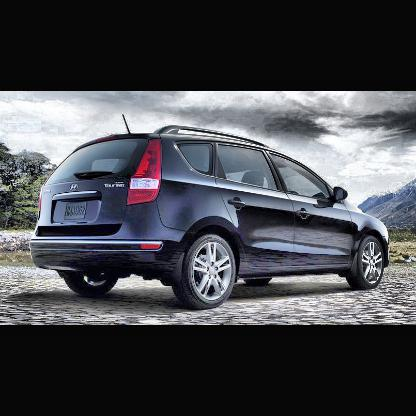Hyundai Elantra Touring Hatchback 2012: (24, 110, 394, 307)
